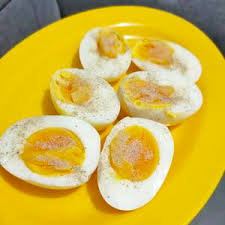Telur rebus: (0, 113, 101, 192), (97, 118, 175, 211), (44, 64, 122, 126), (119, 67, 202, 125), (78, 24, 132, 80), (129, 37, 206, 75)
